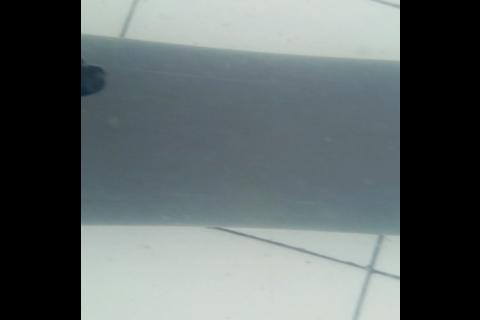kebocoran: (80, 52, 109, 102)
